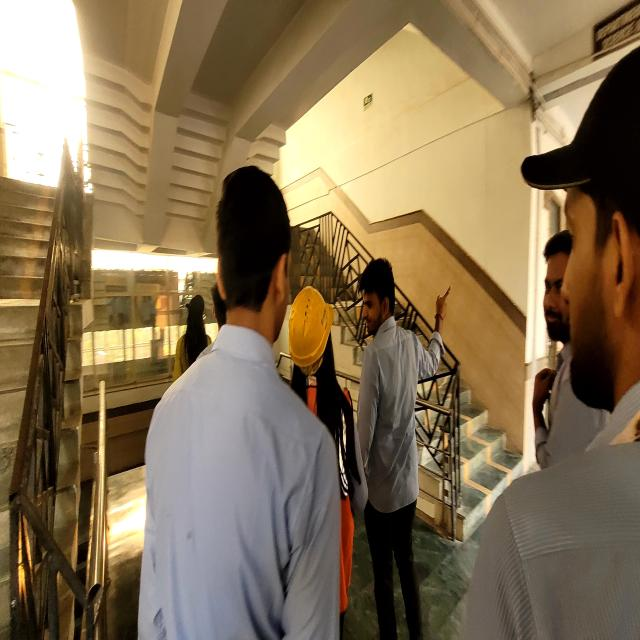unsafe: (136, 165, 342, 640), (350, 254, 443, 640)
